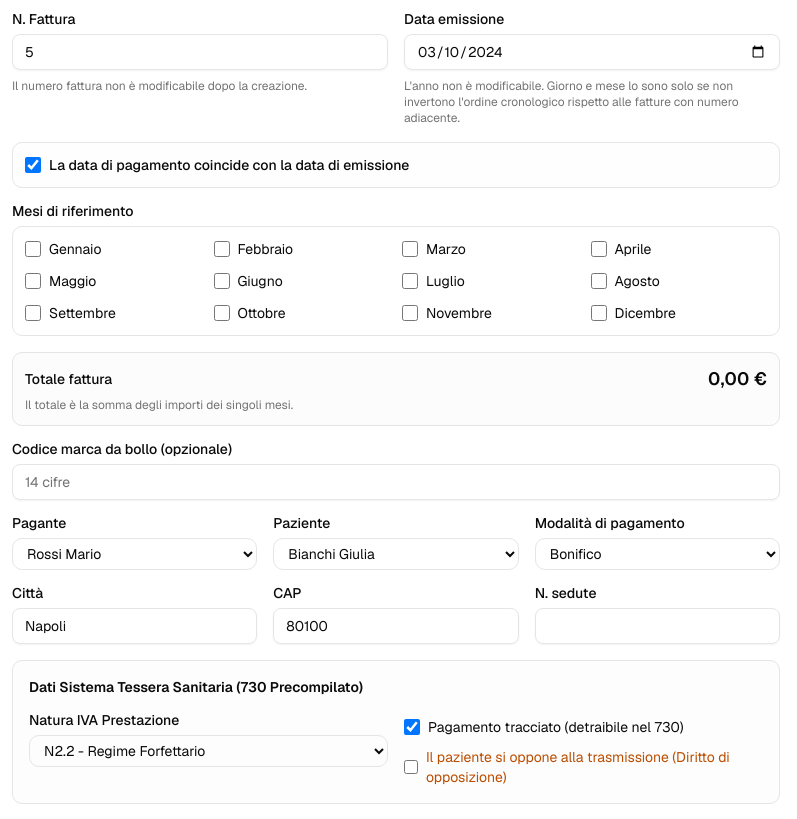
Test: InvoiceForm — LOG-02: autocompilazione città/CAP dal pagante › in modifica, cambiare esplicitamente il pagante autocompila città/CAP del NUOVO pagante
Select "Verdi Luca" in the dropdown labelled "Pagante". click: (135, 554)
box: [12, 538, 257, 570]
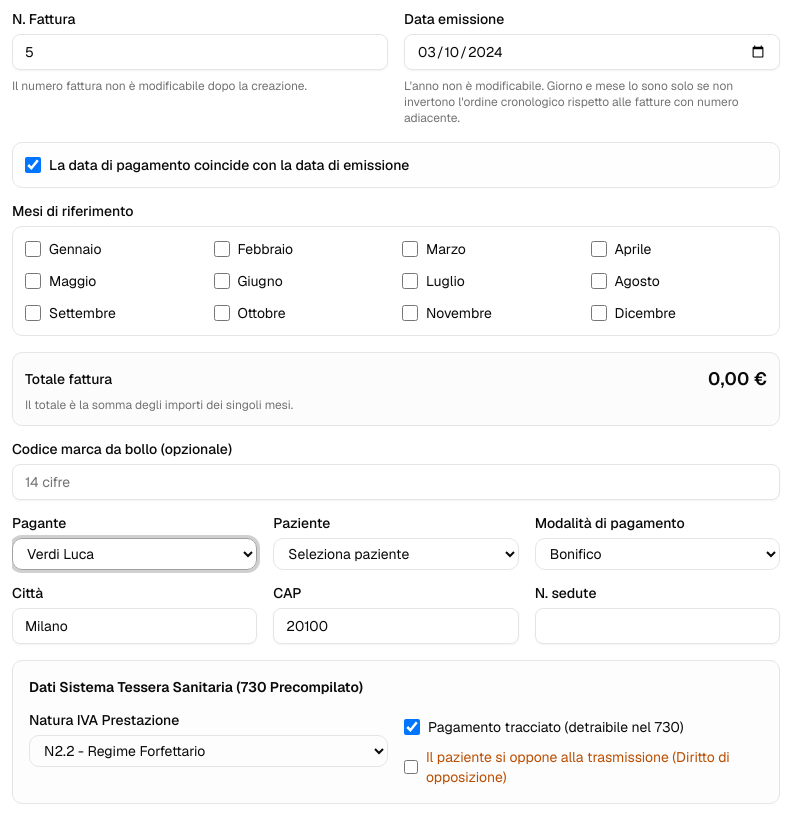
Check: the field labelled "Città" holds "Milano", box [12, 608, 257, 644]
Check: the field labelled "CAP" holds "20100", box [273, 608, 519, 644]
